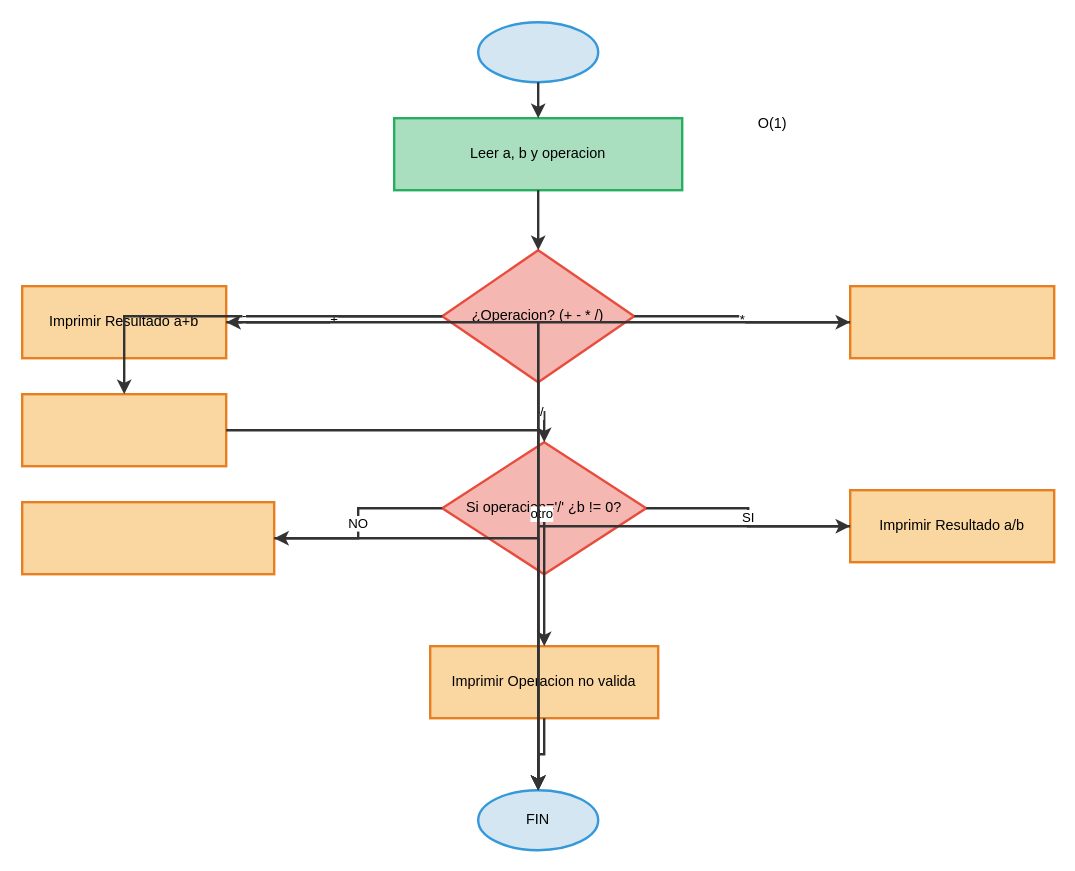
Some shapes in this 1075 by 871 pixel diagram are drawn without their labels. The box of each missing label's shape, as (x1, y1, x2, y2) in pixels:
Imprimir Error division por cero: (20, 500, 275, 575)
Imprimir Resultado a*b: (848, 284, 1055, 359)
Imprimir Resultado a-b: (20, 392, 227, 467)
INICIO: (476, 20, 599, 83)
